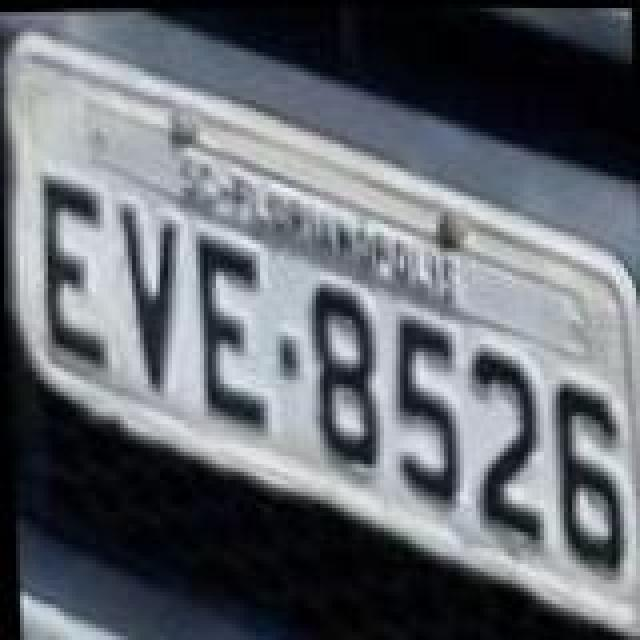2: (468, 350, 544, 546)
5: (388, 312, 460, 504)
6: (550, 370, 626, 566)
8: (306, 284, 378, 468)
E: (190, 230, 266, 430), (38, 172, 110, 364)
V: (118, 200, 190, 392)
